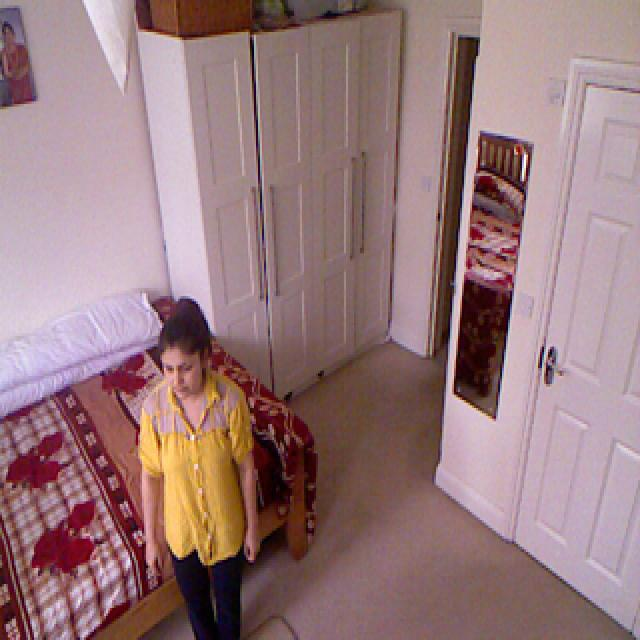standing: (134, 292, 280, 640)
